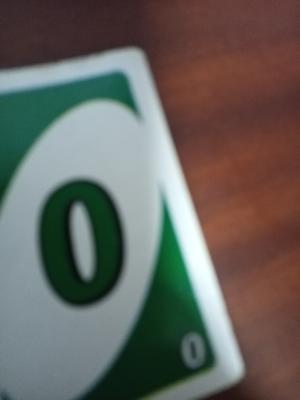num_0: (31, 157, 151, 315), (167, 324, 218, 378)
